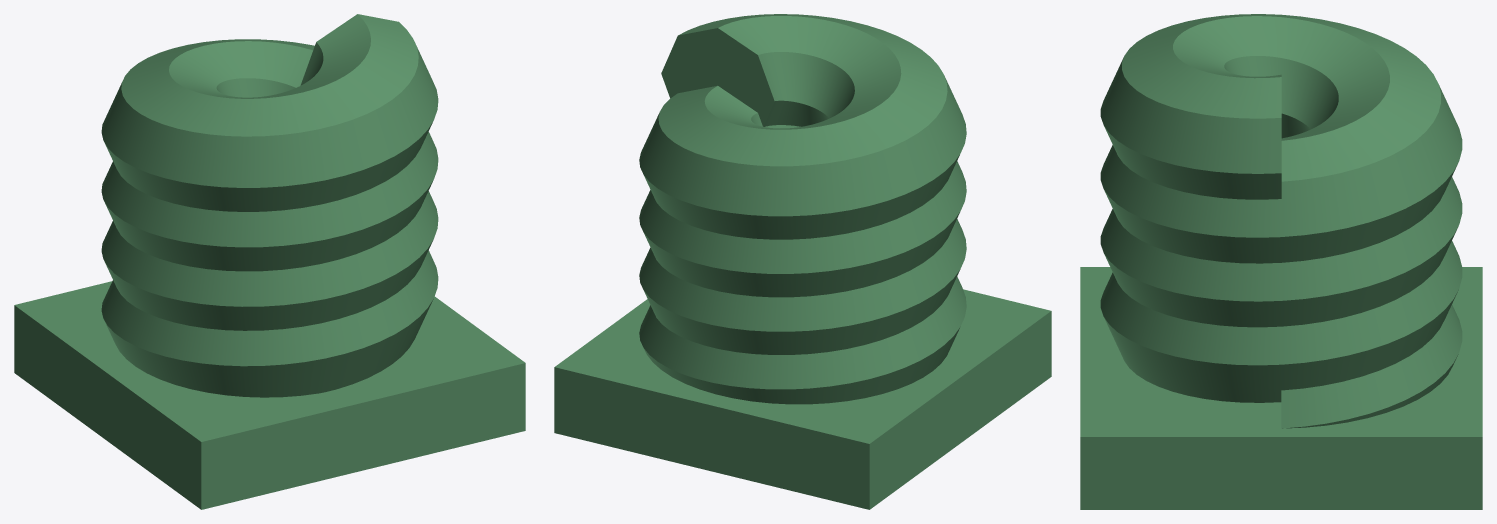
File: Planet Catcher.fbx
3 renders of one model, left to right at view 1: azimuth 30°, elevation 25°; view 2: azimuth 150°, elevation 25°; view 3: azimuth 270°, elevation 25°, orthographic. The views are drawn at different scales.
Parts seen in each view (by area): view 1: pCube2; view 2: pCube2; view 3: pCube2.
Boxes of the visible parts, <box> form: pCube2: <box>14,14,525,509</box>; pCube2: <box>554,14,1051,509</box>; pCube2: <box>1080,14,1482,509</box>.
Size of the model in its own units: 1 by 1.08 by 1.
